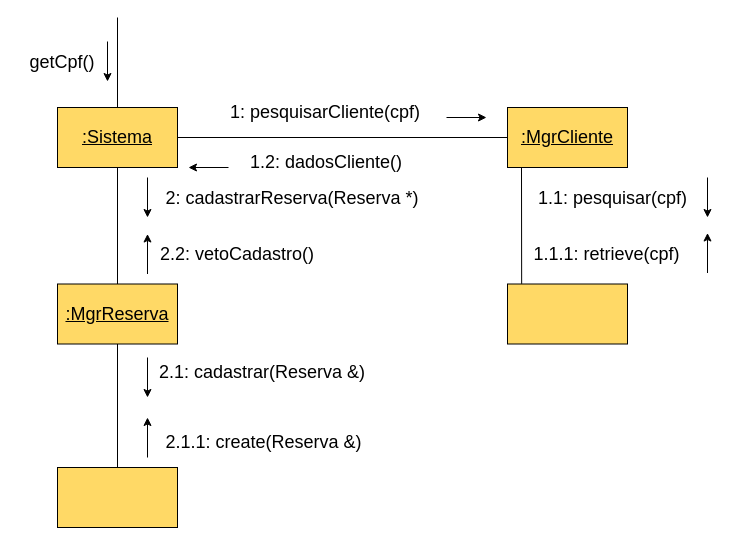
Some shapes in this 733 by 545 pixel diagram are drawn without their labels. Each missing label, with the centre of its shape:
":DaoCliente" goes at point (567, 313).
":DaoReserva" goes at point (117, 497).
